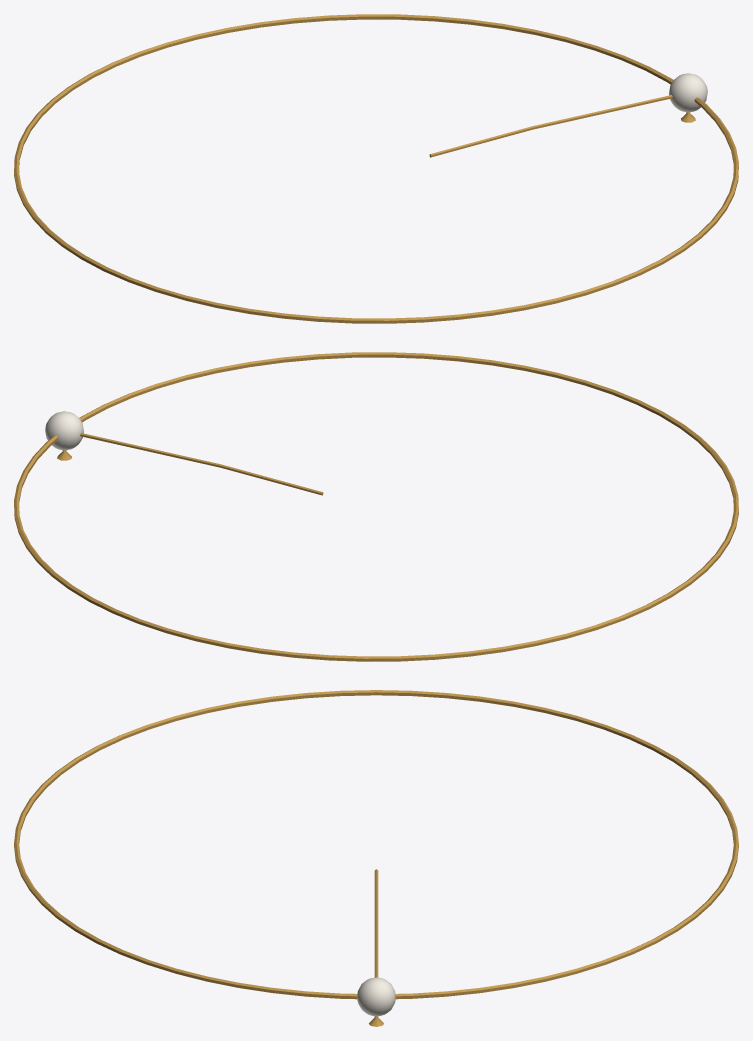
Rendered from orrery_arm_3.glb.
3 renders of one model, top to bottom at view 1: azimuth 30°, elevation 25°; view 2: azimuth 150°, elevation 25°; view 3: azimuth 270°, elevation 25°, orthographic.
Parts seen in each view (by area): view 1: orrery_arm_3; view 2: orrery_arm_3; view 3: orrery_arm_3.
Boxes of the visible parts, box(x1,y1,x2,y2) form: orrery_arm_3: box(14, 14, 738, 323); orrery_arm_3: box(14, 352, 738, 661); orrery_arm_3: box(14, 690, 738, 1026).
Size of the model in its own units: 4.54 by 0.3 by 4.43.
